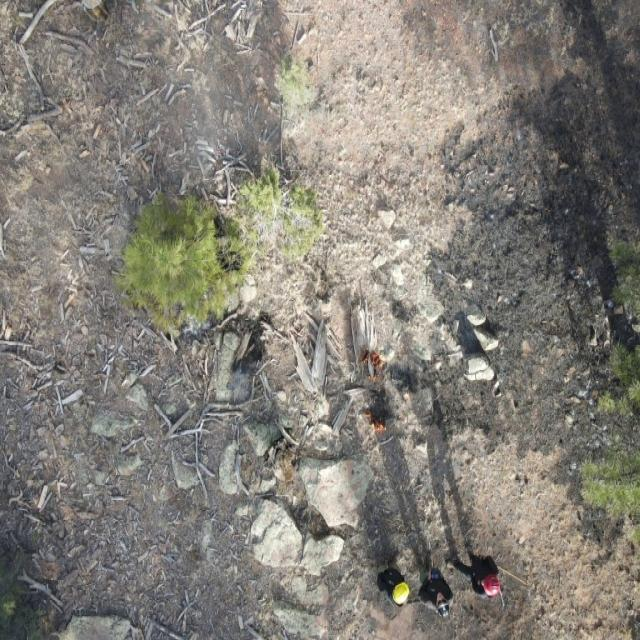fire: (359, 346, 386, 382), (363, 408, 386, 433)
smoke: (17, 28, 234, 230)
